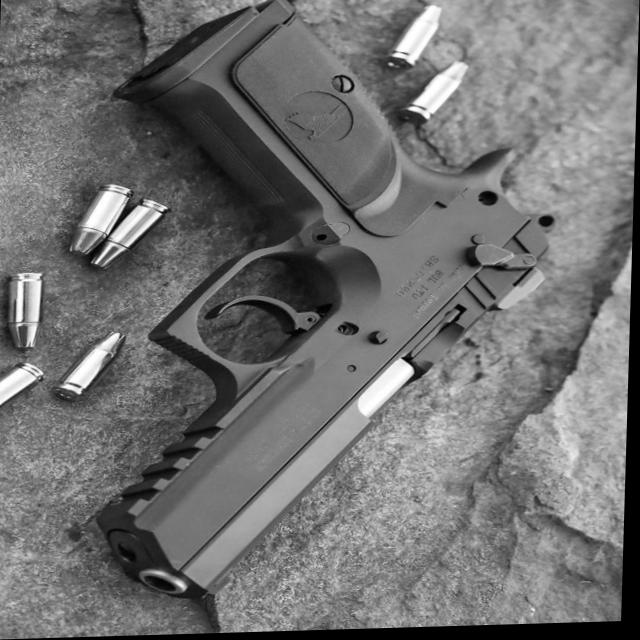handgun: (56, 0, 597, 628)
